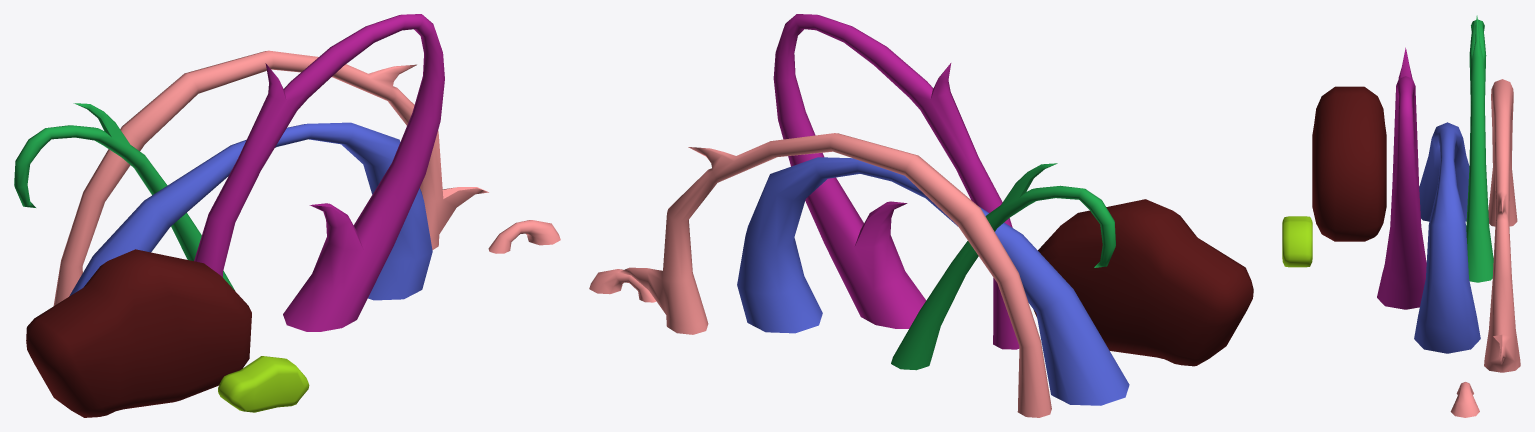
The model's file is VineSet_01.FBX.fbx.
3 renders of one model, left to right at view 1: azimuth 30°, elevation 25°; view 2: azimuth 150°, elevation 25°; view 3: azimuth 270°, elevation 25°, orthographic. The views are drawn at different scales.
Visible parts, largest first — view 1: Box006, Line009, Line011, Line010, Line013, Box007, Line020; view 2: Box006, Line010, Line009, Line011, Line013, Line020; view 3: Box006, Line010, Line009, Line011, Line013, Box007, Line020.
Part boxes in pixels (x1,y1,x2,y2): Box006: (26,249,251,417); Line009: (194,14,444,331); Line011: (53,50,488,305); Line010: (69,122,432,300); Line013: (14,103,234,290); Box007: (218,356,309,412); Line020: (488,220,560,253); Box006: (1033,199,1253,366); Line010: (737,157,1129,405); Line009: (773,14,1019,349); Line011: (618,133,1051,417); Line013: (891,163,1115,370); Line020: (589,269,656,302); Box006: (1312,86,1386,241); Line010: (1414,122,1480,353); Line009: (1377,47,1426,309); Line011: (1484,79,1520,372); Line013: (1466,15,1493,282); Box007: (1282,216,1312,267); Line020: (1450,382,1479,417).
Size of the model in its own units: 305 by 146 by 126.
